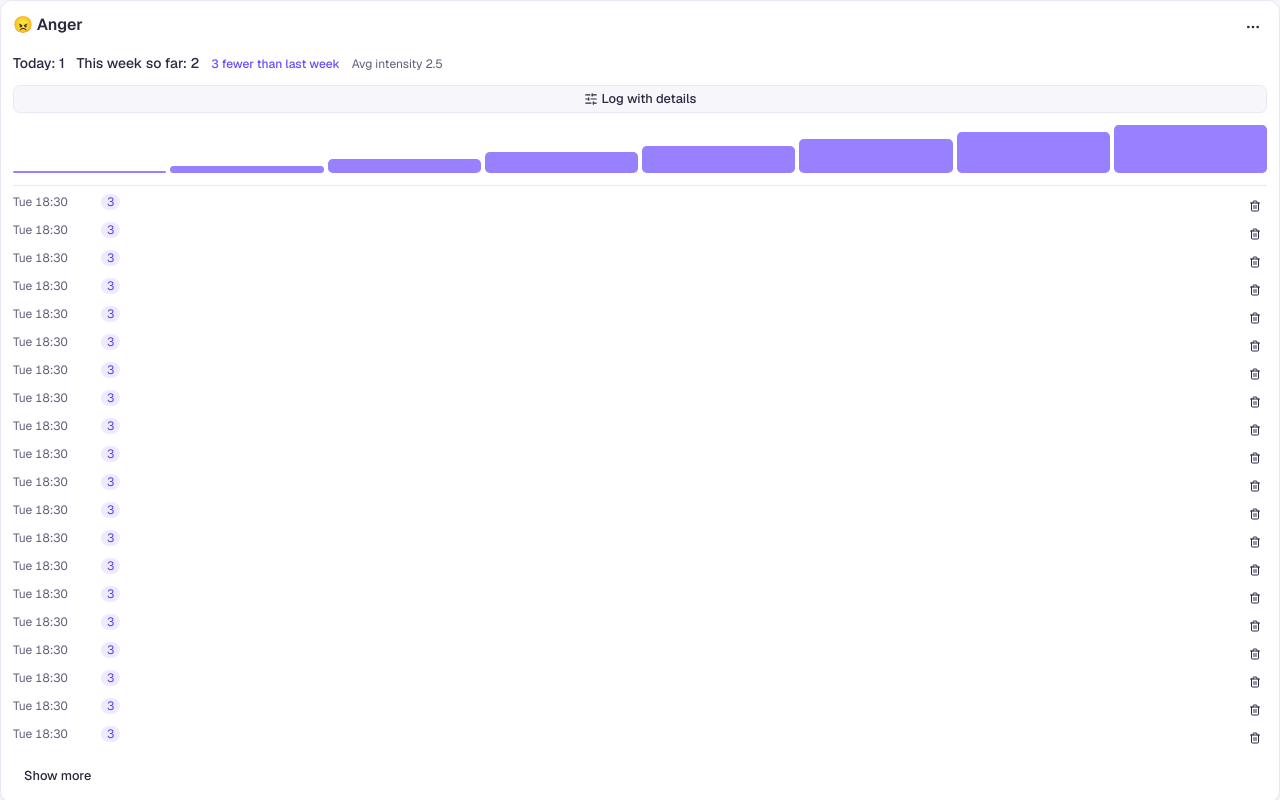
Test: loads more moments from before the last one
The width and height of the screenshot is (1280, 800).
Click the button "Show more": (58, 776) [13, 762, 102, 790]
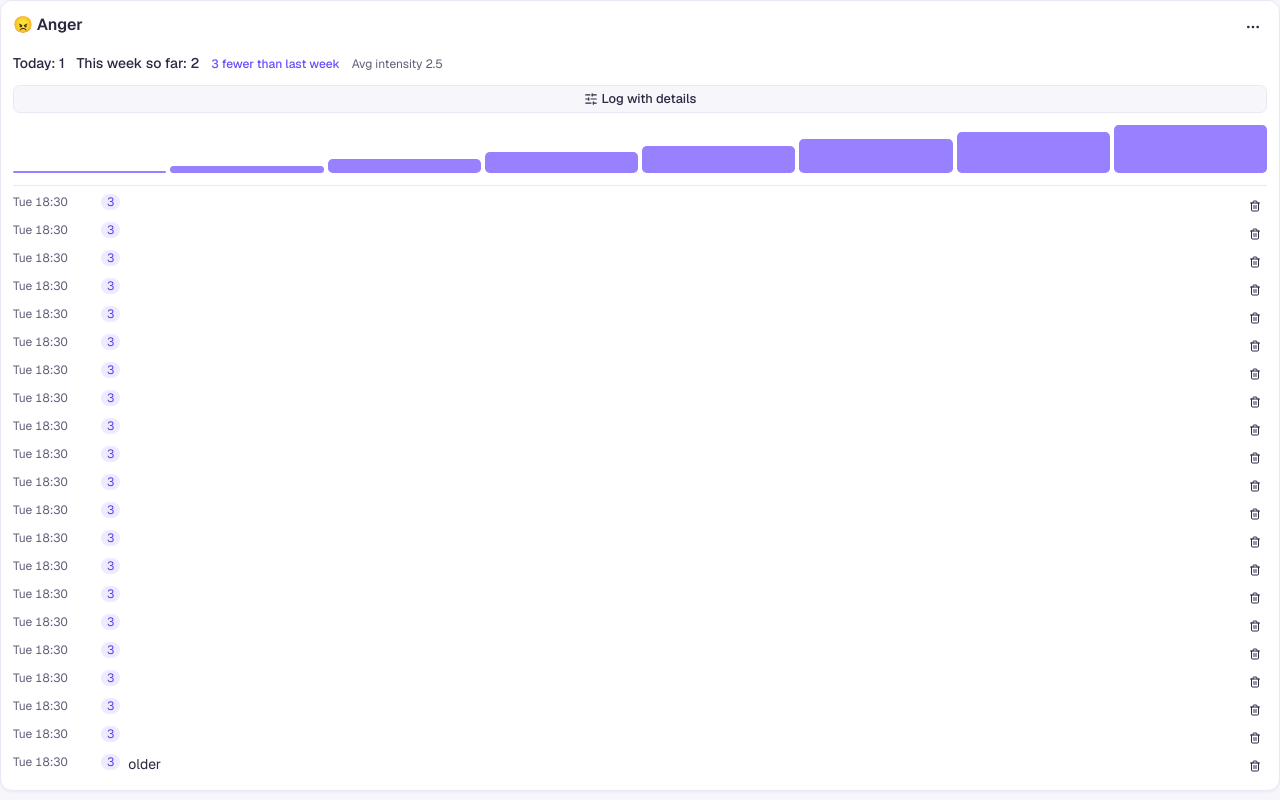
Now the text "older" is shown, box [128, 755, 161, 773]
